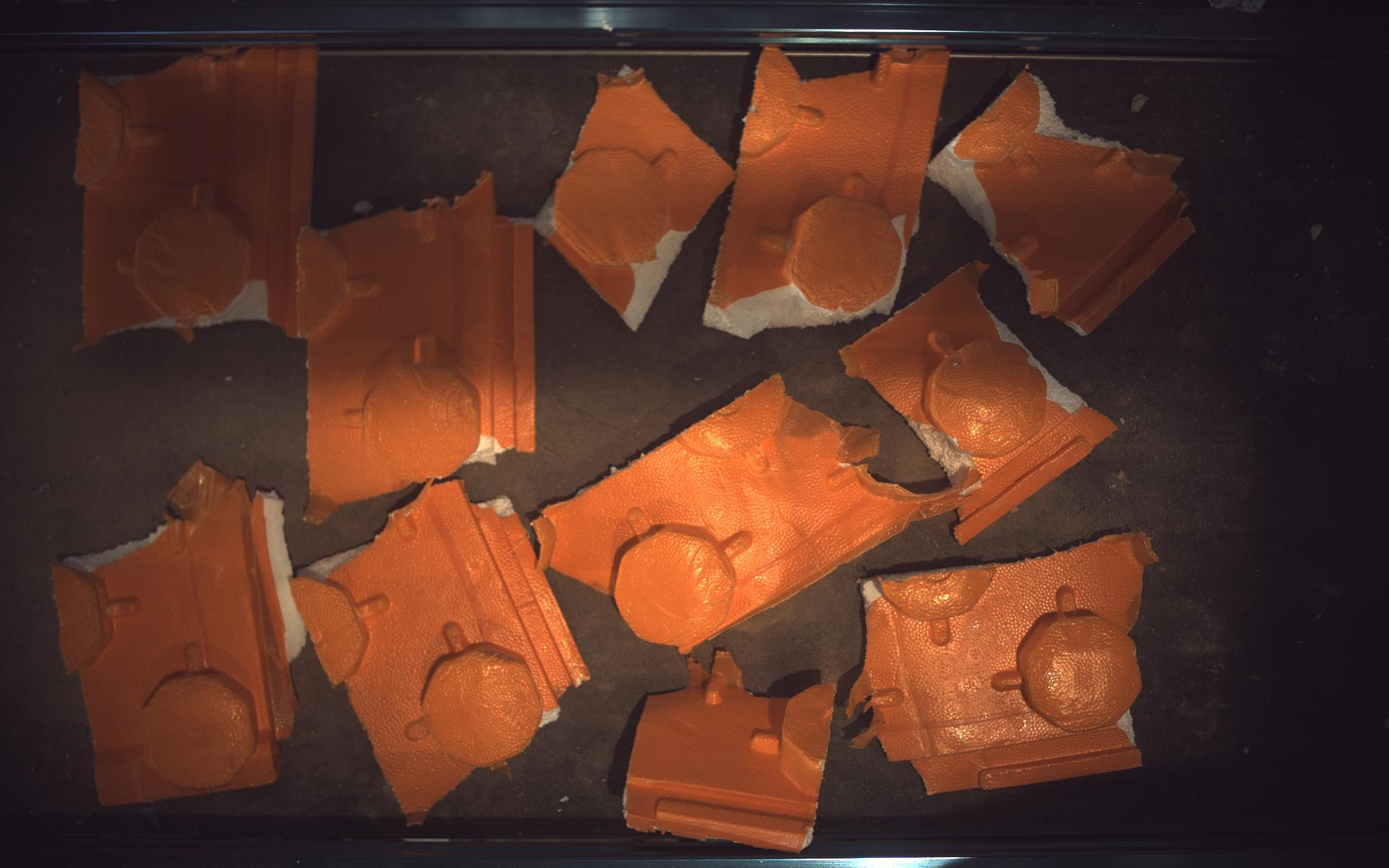foam: (533, 375, 959, 653), (291, 480, 589, 826), (51, 461, 303, 807), (295, 173, 535, 522), (849, 533, 1160, 795), (842, 261, 1116, 542), (73, 47, 316, 344), (705, 46, 951, 338), (930, 70, 1197, 334), (537, 65, 736, 330), (625, 651, 837, 854)
